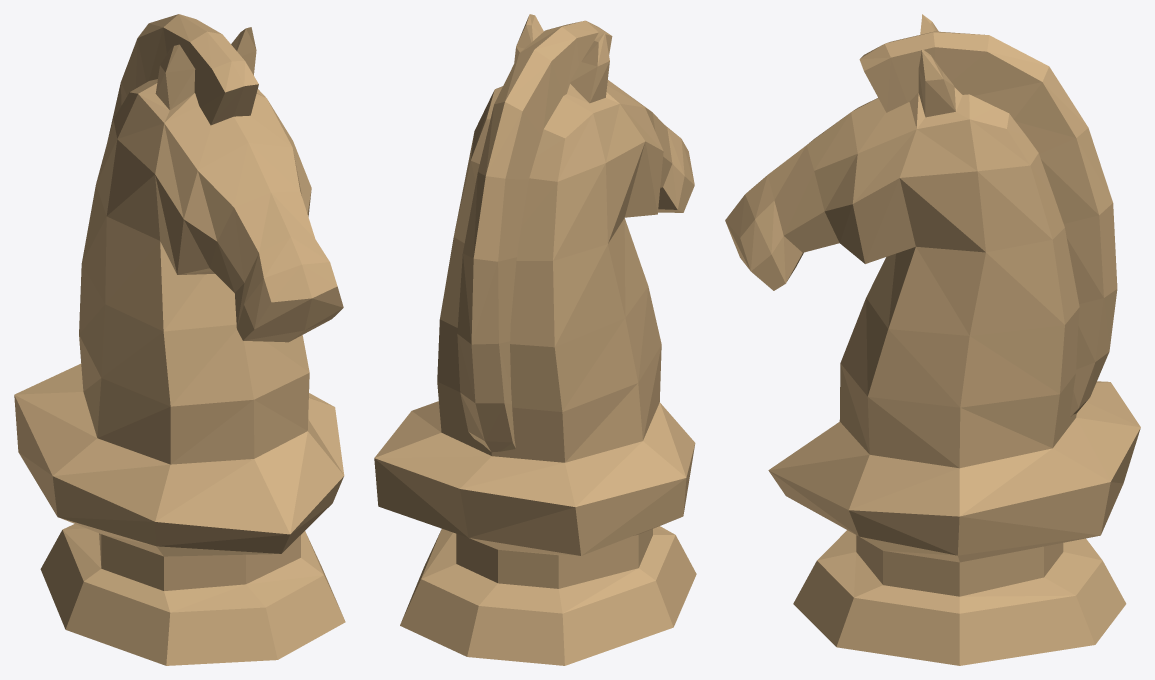
The model's file is knife chess piece.obj.
3 renders of one model, left to right at view 1: azimuth 30°, elevation 25°; view 2: azimuth 150°, elevation 25°; view 3: azimuth 270°, elevation 25°, orthographic. The views are drawn at different scales.
Size of the model in its own units: 1.15 by 2.24 by 1.47.
